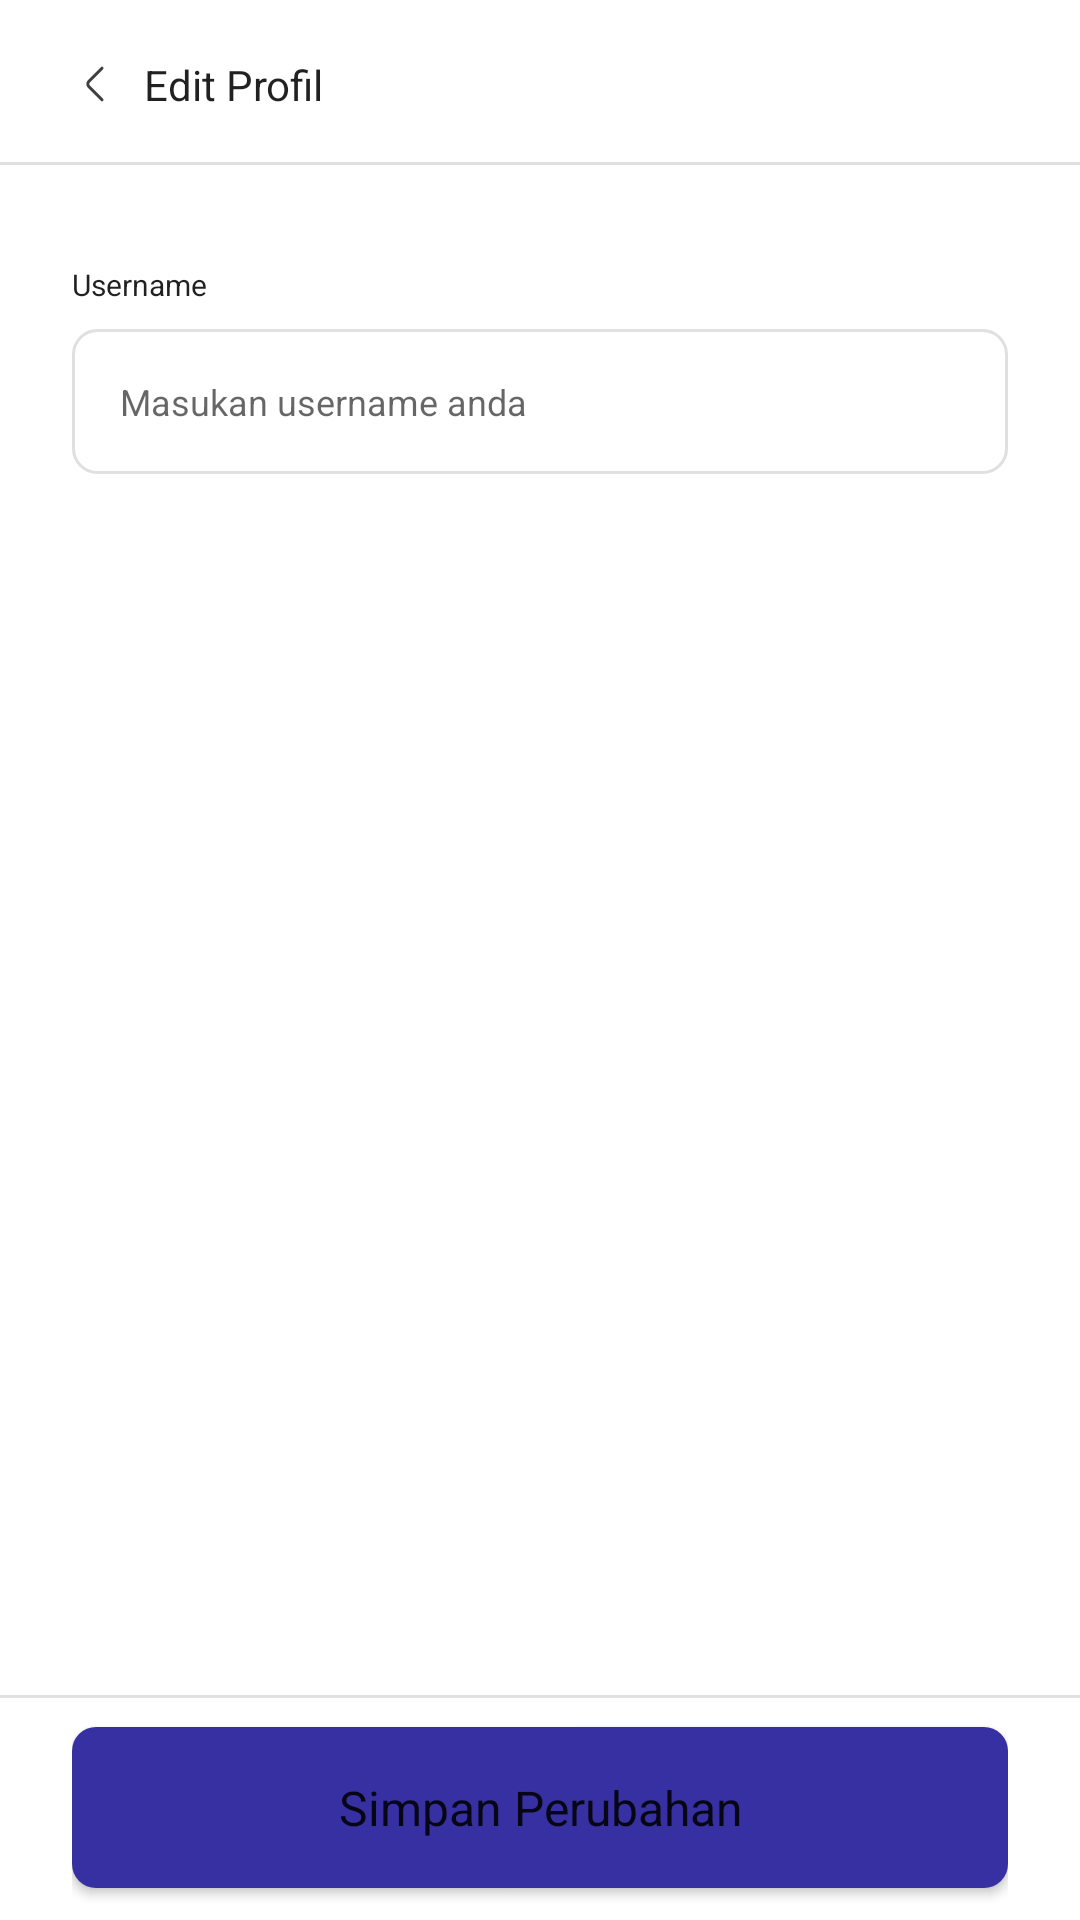

Screen size 1080px x 1920px. Icon name, then its center in pixels as point (x, y):
arrow left: point (95, 84)
